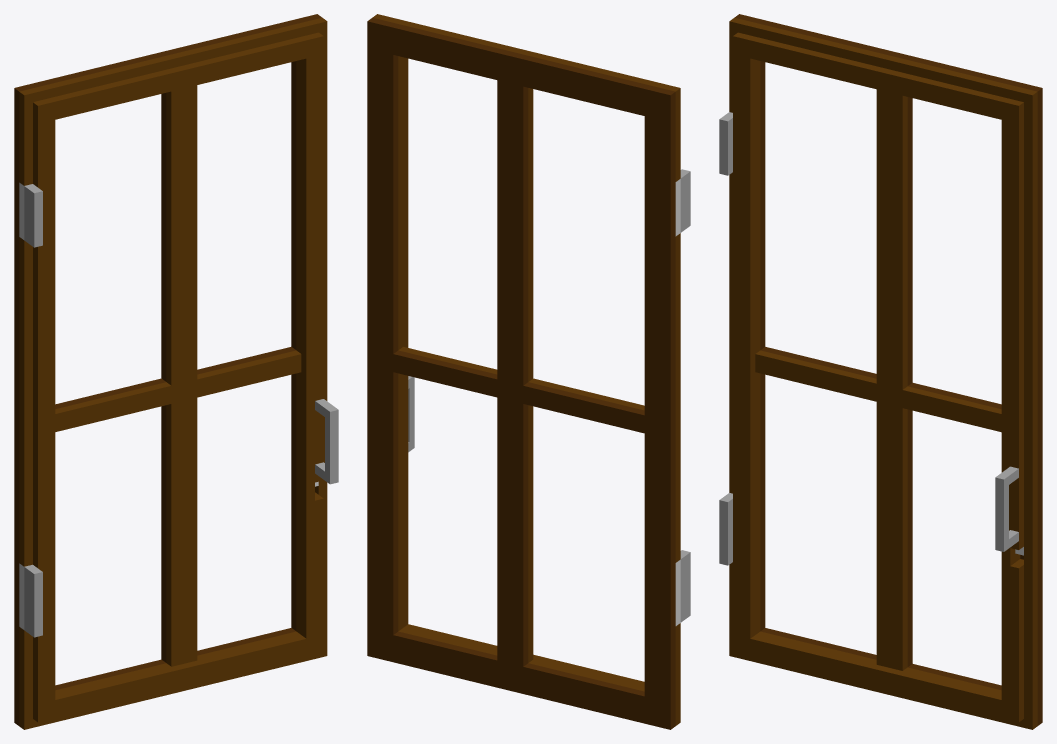
Rendered from fenetre_gauche.obj.
3 views of the same model, side by side, from view 1: azimuth 30°, elevation 25°; view 2: azimuth 150°, elevation 25°; view 3: azimuth 330°, elevation 25° (orthographic).
Size of the model in its own units: 35 by 70 by 6.
Materials: 1 (1 with a texture image).
